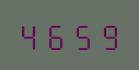five: (68, 20, 92, 50)
four: (18, 20, 42, 50)
nine: (93, 20, 117, 50)
six: (43, 20, 67, 50)
